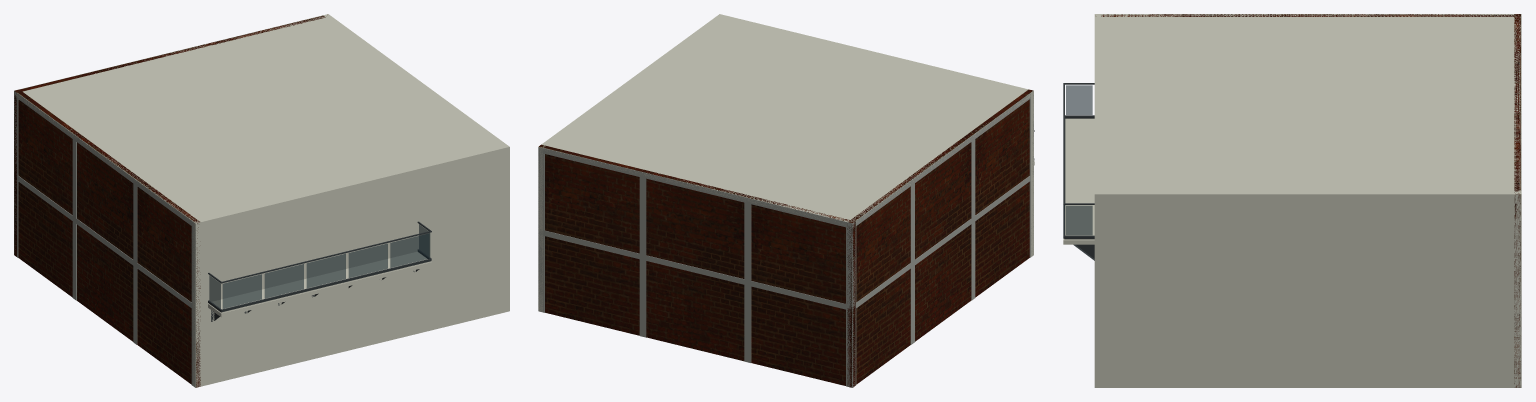
Rendered from building.glb.
3 renders of one model, left to right at view 1: azimuth 30°, elevation 25°; view 2: azimuth 150°, elevation 25°; view 3: azimuth 270°, elevation 25°, orthographic. The views are drawn at different scales.
Parts seen in each view (by area): view 1: roof/house:0/roof_slab#0001, house:0/edge0/z0/house:0/edge0/z0/wall_0_0, house:0/edge3/z0/house:0/edge3/z0/wall_0_0, balcony/sample/balcony_platform#0001, house:0/edge2/z0/house:0/edge2/z0/wall_0_0, house:0/edge1/z0/house:0/edge1/z0/wall_0_0, house:0/edge3/z0/house:0/edge3/z0/beam_0_0, house:0/edge3/z0/house:0/edge3/z0/beam_1_0, balcony/sample/balcony_fascia#0001, balcony/sample/balcony_glass#0002, balcony/sample/balcony_glass#0003, balcony/sample/balcony_glass#0006 (+4 smaller); view 2: roof/house:0/roof_slab#0001, house:0/edge2/z0/house:0/edge2/z0/wall_0_0, house:0/edge3/z0/house:0/edge3/z0/wall_0_0, house:0/edge2/z0/house:0/edge2/z0/beam_0_0, house:0/edge2/z0/house:0/edge2/z0/beam_1_0, house:0/edge1/z0/house:0/edge1/z0/wall_0_0, house:0/edge0/z0/house:0/edge0/z0/wall_0_0, house:0/edge3/z0/house:0/edge3/z0/beam_0_0, house:0/edge3/z0/house:0/edge3/z0/beam_1_0, house:0/edge2/z0/house:0/edge2/z0/column_2_1, house:0/edge2/z0/house:0/edge2/z0/column_2_0, house:0/edge2/z0/house:0/edge2/z0/column_3_0 (+5 smaller); view 3: house:0/edge1/z0/house:0/edge1/z0/wall_0_0, roof/house:0/roof_slab#0001, balcony/sample/balcony_platform#0001, house:0/edge0/z0/house:0/edge0/z0/wall_0_0, house:0/edge2/z0/house:0/edge2/z0/wall_0_0, house:0/edge3/z0/house:0/edge3/z0/wall_0_0, balcony/sample/balcony_glass#0007, balcony/sample/balcony_glass#0001.
Boxes of the visible parts, x1,y1,x2,y2 form: roof/house:0/roof_slab#0001: [14, 16, 509, 224]; house:0/edge0/z0/house:0/edge0/z0/wall_0_0: [192, 144, 509, 387]; house:0/edge3/z0/house:0/edge3/z0/wall_0_0: [15, 89, 200, 387]; balcony/sample/balcony_platform#0001: [209, 252, 430, 312]; house:0/edge2/z0/house:0/edge2/z0/wall_0_0: [14, 14, 327, 256]; house:0/edge1/z0/house:0/edge1/z0/wall_0_0: [323, 14, 509, 312]; house:0/edge3/z0/house:0/edge3/z0/beam_0_0: [14, 175, 195, 310]; house:0/edge3/z0/house:0/edge3/z0/beam_1_0: [14, 91, 195, 227]; balcony/sample/balcony_fascia#0001: [208, 261, 431, 317]; balcony/sample/balcony_glass#0002: [222, 274, 261, 308]; balcony/sample/balcony_glass#0003: [264, 264, 303, 298]; balcony/sample/balcony_glass#0006: [390, 233, 429, 267]; roof/house:0/roof_slab#0001: [538, 14, 1033, 226]; house:0/edge2/z0/house:0/edge2/z0/wall_0_0: [539, 144, 855, 387]; house:0/edge3/z0/house:0/edge3/z0/wall_0_0: [847, 89, 1033, 387]; house:0/edge2/z0/house:0/edge2/z0/beam_0_0: [538, 229, 852, 310]; house:0/edge2/z0/house:0/edge2/z0/beam_1_0: [538, 147, 852, 228]; house:0/edge1/z0/house:0/edge1/z0/wall_0_0: [538, 14, 723, 312]; house:0/edge0/z0/house:0/edge0/z0/wall_0_0: [718, 14, 1033, 256]; house:0/edge3/z0/house:0/edge3/z0/beam_0_0: [852, 173, 1033, 310]; house:0/edge3/z0/house:0/edge3/z0/beam_1_0: [852, 91, 1033, 228]; house:0/edge2/z0/house:0/edge2/z0/column_2_1: [639, 259, 646, 337]; house:0/edge2/z0/house:0/edge2/z0/column_2_0: [639, 177, 646, 255]; house:0/edge2/z0/house:0/edge2/z0/column_3_0: [744, 202, 751, 280]; house:0/edge1/z0/house:0/edge1/z0/wall_0_0: [1094, 191, 1521, 387]; roof/house:0/roof_slab#0001: [1094, 14, 1521, 198]; balcony/sample/balcony_platform#0001: [1064, 118, 1094, 239]; house:0/edge0/z0/house:0/edge0/z0/wall_0_0: [1094, 14, 1101, 387]; house:0/edge2/z0/house:0/edge2/z0/wall_0_0: [1514, 14, 1520, 387]; house:0/edge3/z0/house:0/edge3/z0/wall_0_0: [1101, 14, 1514, 16]; balcony/sample/balcony_glass#0007: [1066, 205, 1092, 235]; balcony/sample/balcony_glass#0001: [1066, 85, 1092, 114].
Size of the model in its own units: 12 by 6 by 12.88.
Materials: 5 (1 with a texture image).
